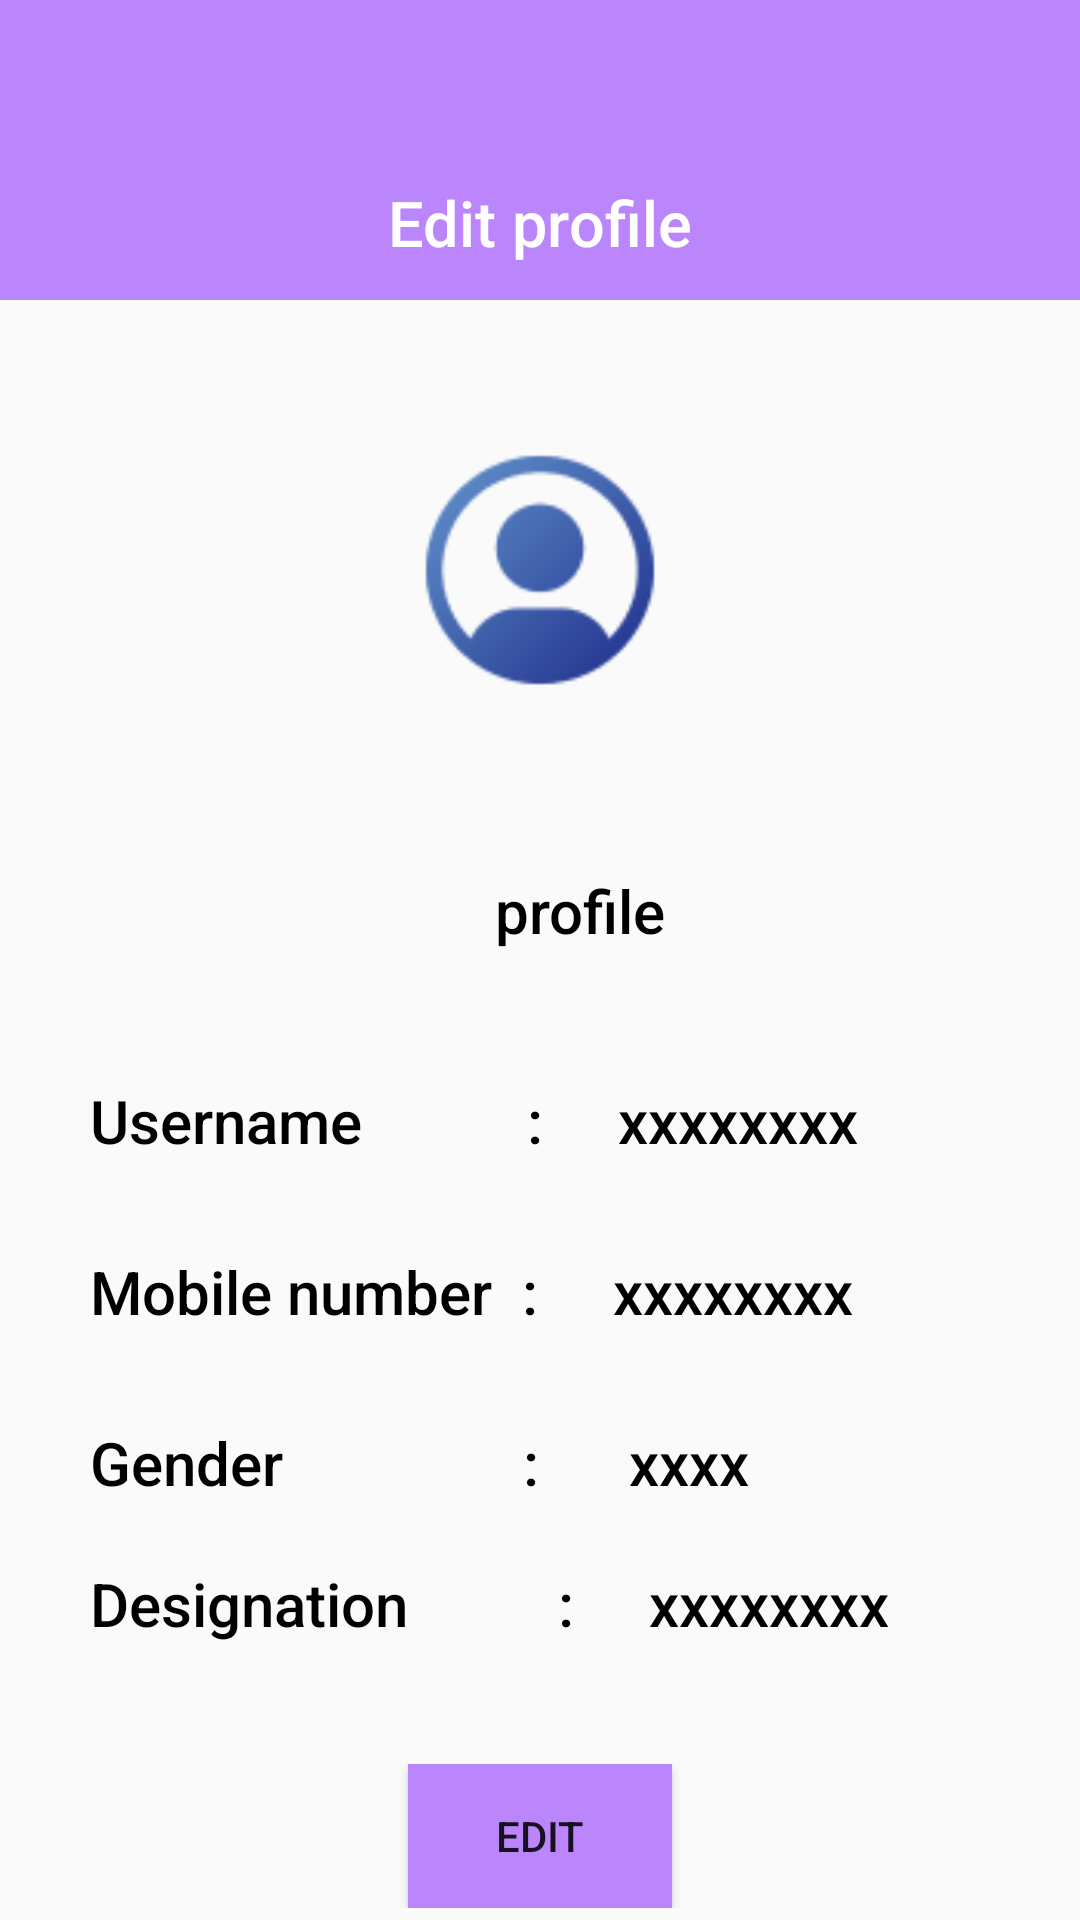

Icons on this 1080x1920 Android screen, each with the point to tap as [x,y]:
profile: [540,570]
